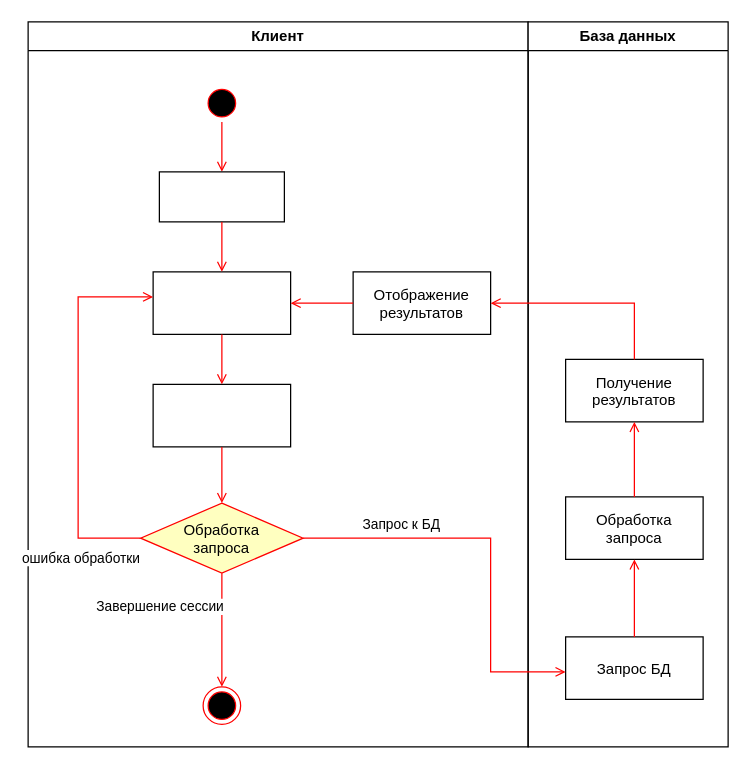
Some shapes in this 750 by 769 pixel diagram are drawn without their labels. Each missing label, with the box of its shape:
Вход в систему: (158, 171, 284, 222)
Ожидание запроса: (152, 271, 291, 334)
Получение запроса пользователя: (152, 383, 291, 447)
